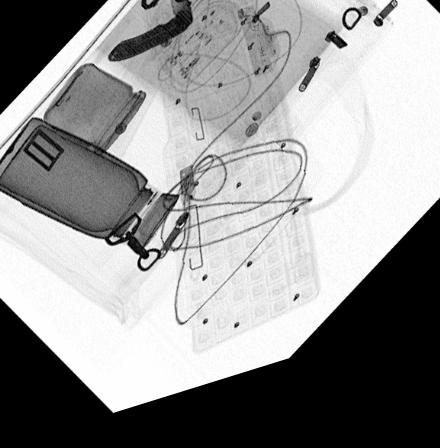Knife: (106, 0, 195, 71)
